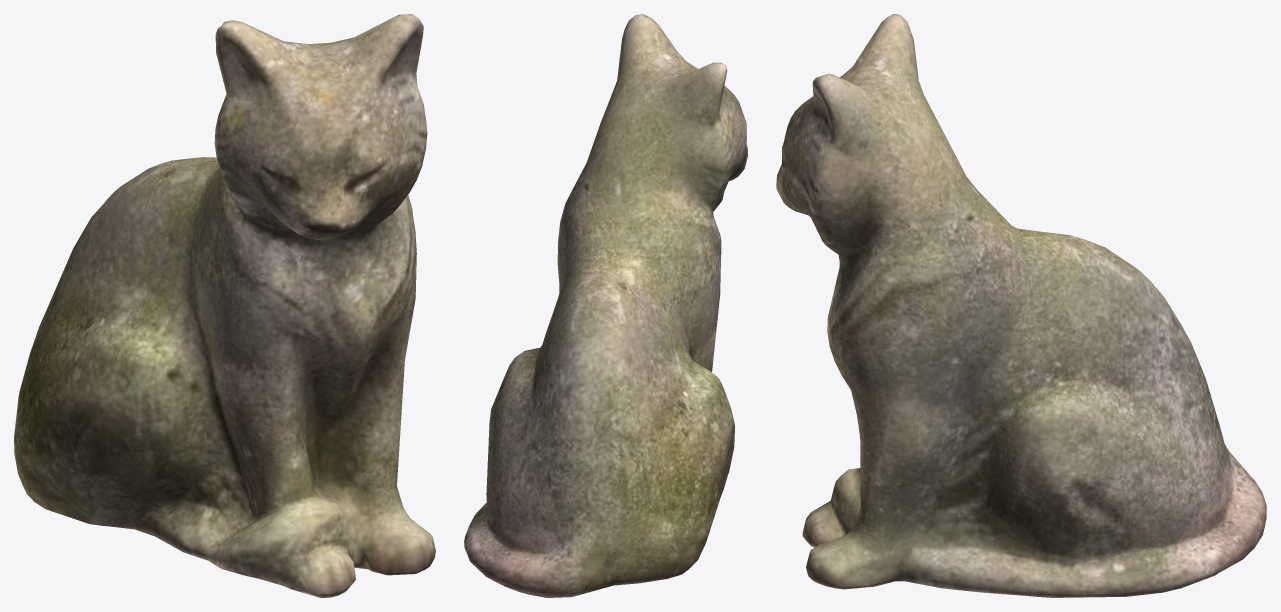
File: concrete_cat_statue.glb
The picture shows the model from 3 angles, left to right: view 1: azimuth 30°, elevation 25°; view 2: azimuth 150°, elevation 25°; view 3: azimuth 270°, elevation 25°; orthographic projection. The views are drawn at different scales.
Visible parts, largest first — view 1: concrete_cat_statue; view 2: concrete_cat_statue; view 3: concrete_cat_statue.
Part boxes in pixels (x1,y1,x2,y2): concrete_cat_statue: (14, 14, 435, 597); concrete_cat_statue: (464, 14, 747, 597); concrete_cat_statue: (776, 14, 1266, 597).
Bounding box in the file's own units: 0.1528 × 0.2828 × 0.2497.
Materials: 1 (1 with a texture image).
